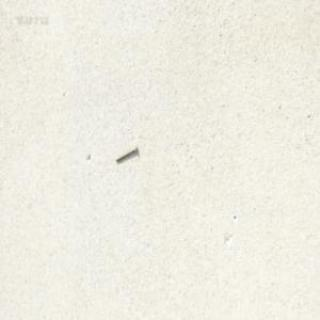Bolttrack_idkeyframe: (114, 143, 137, 162)
